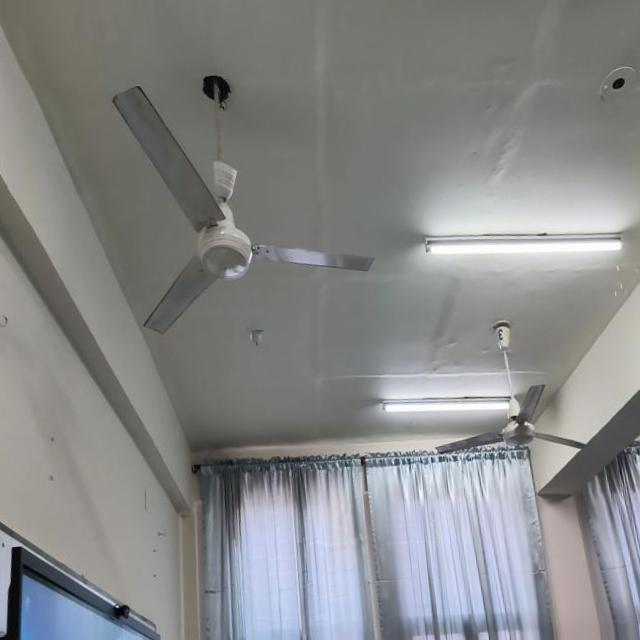Digital board: (497, 541, 623, 639)
Light: (39, 249, 218, 277), (156, 403, 271, 424)
